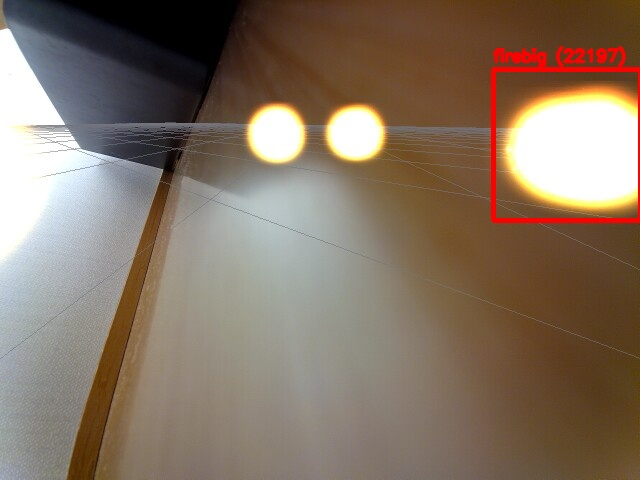firebig: (493, 69, 640, 220)
